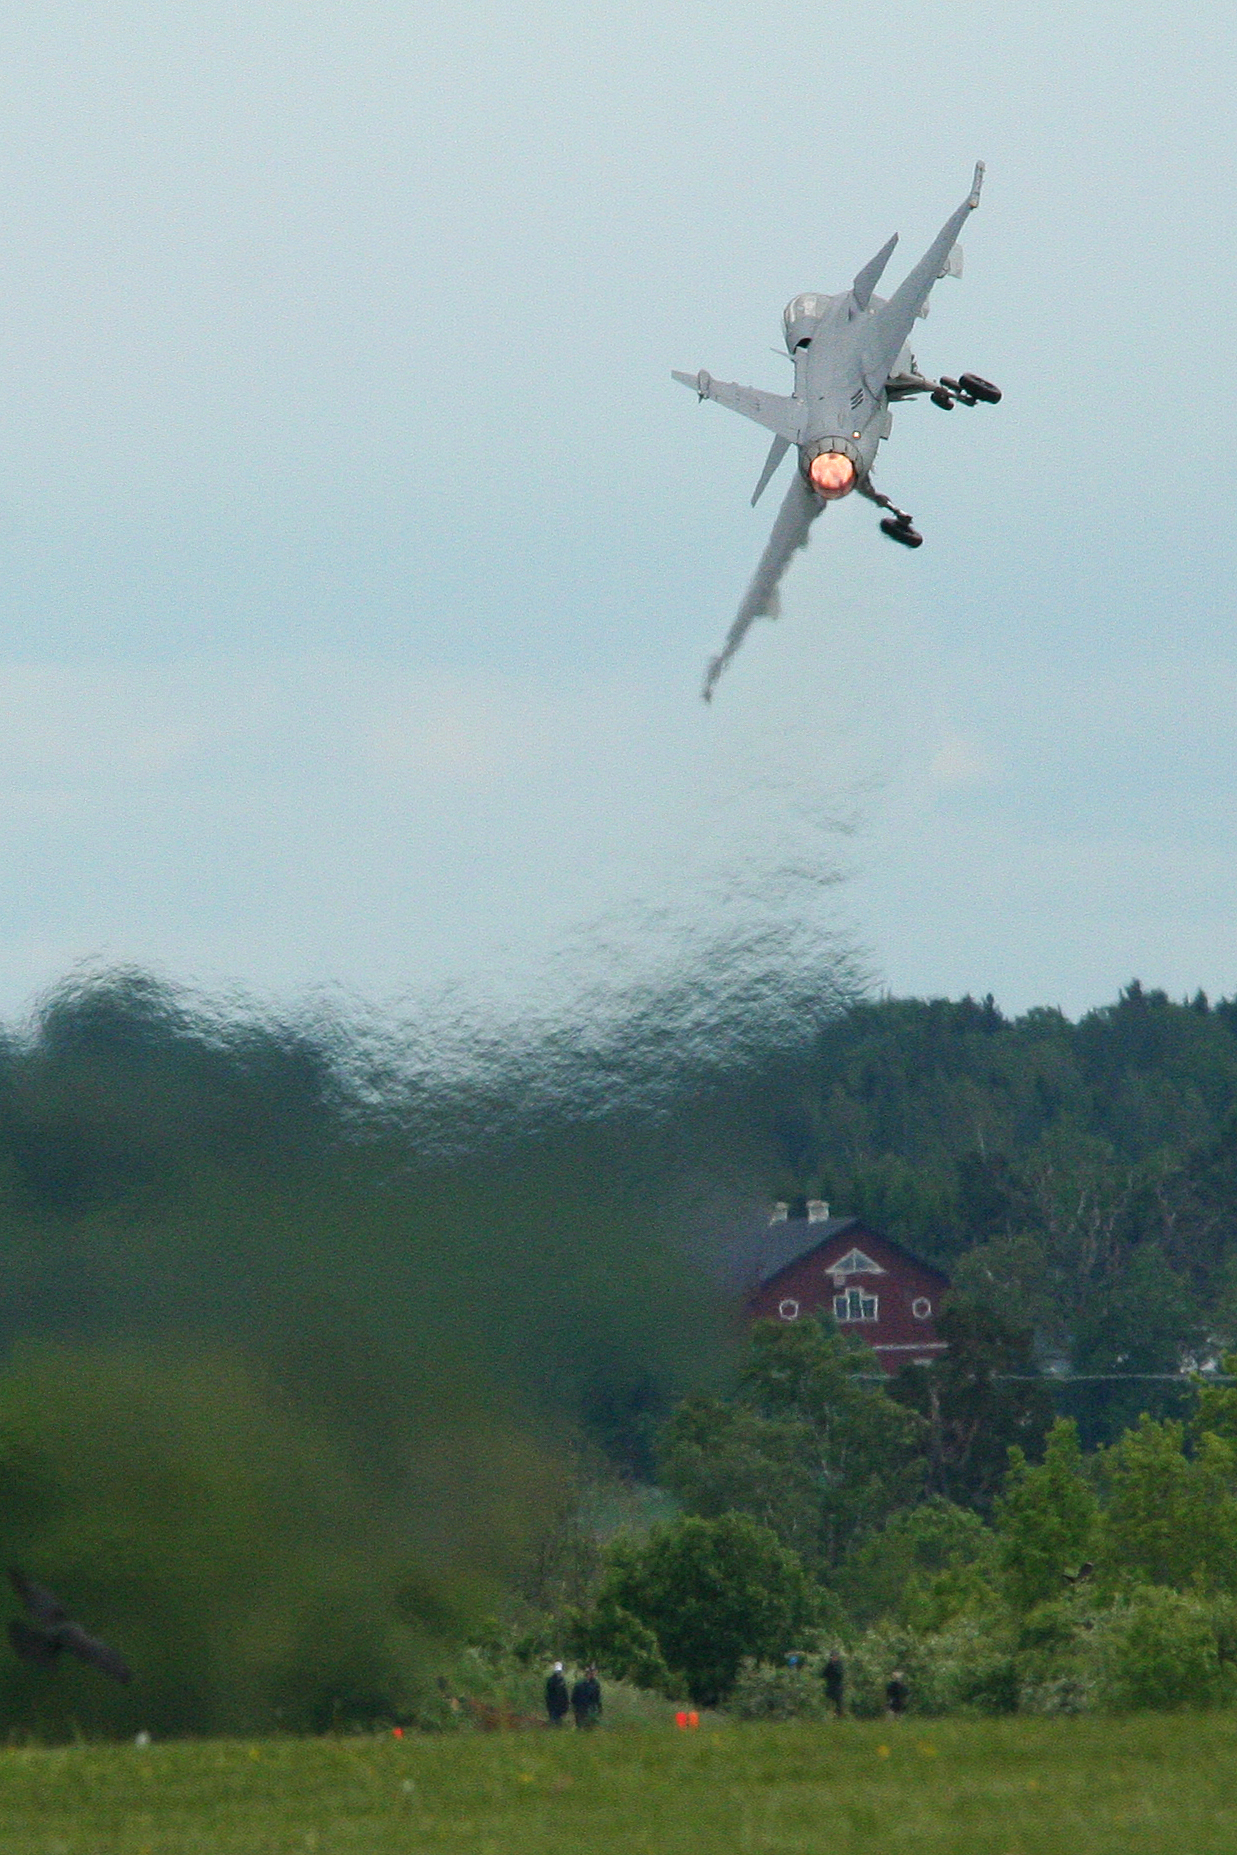JAS39: (670, 159, 1002, 707)
